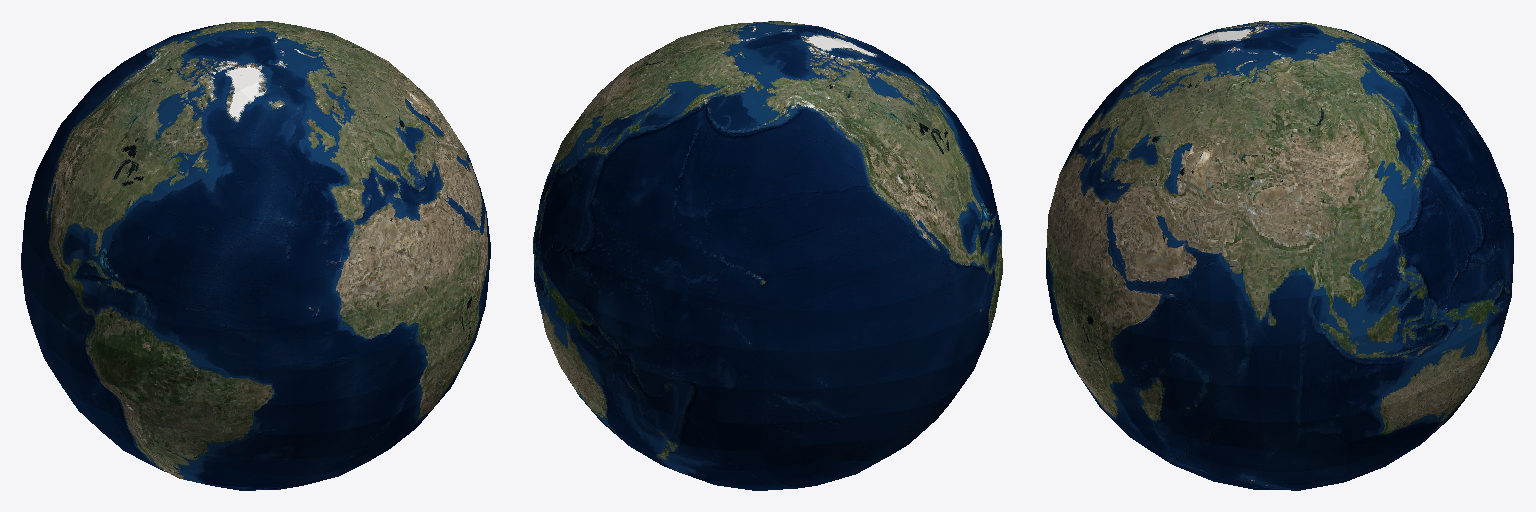
3 views of the same model, side by side, from view 1: azimuth 30°, elevation 25°; view 2: azimuth 150°, elevation 25°; view 3: azimuth 270°, elevation 25° (orthographic).
Parts seen in each view (by area): view 1: Atmosphere; view 2: Atmosphere; view 3: Atmosphere.
Part boxes in pixels (x1,y1,x2,y2): Atmosphere: (21,21,490,490); Atmosphere: (533,21,1002,490); Atmosphere: (1046,21,1513,490).
Size of the model in its own units: 6.32 by 6.34 by 6.32.
Materials: 1 (1 with a texture image).